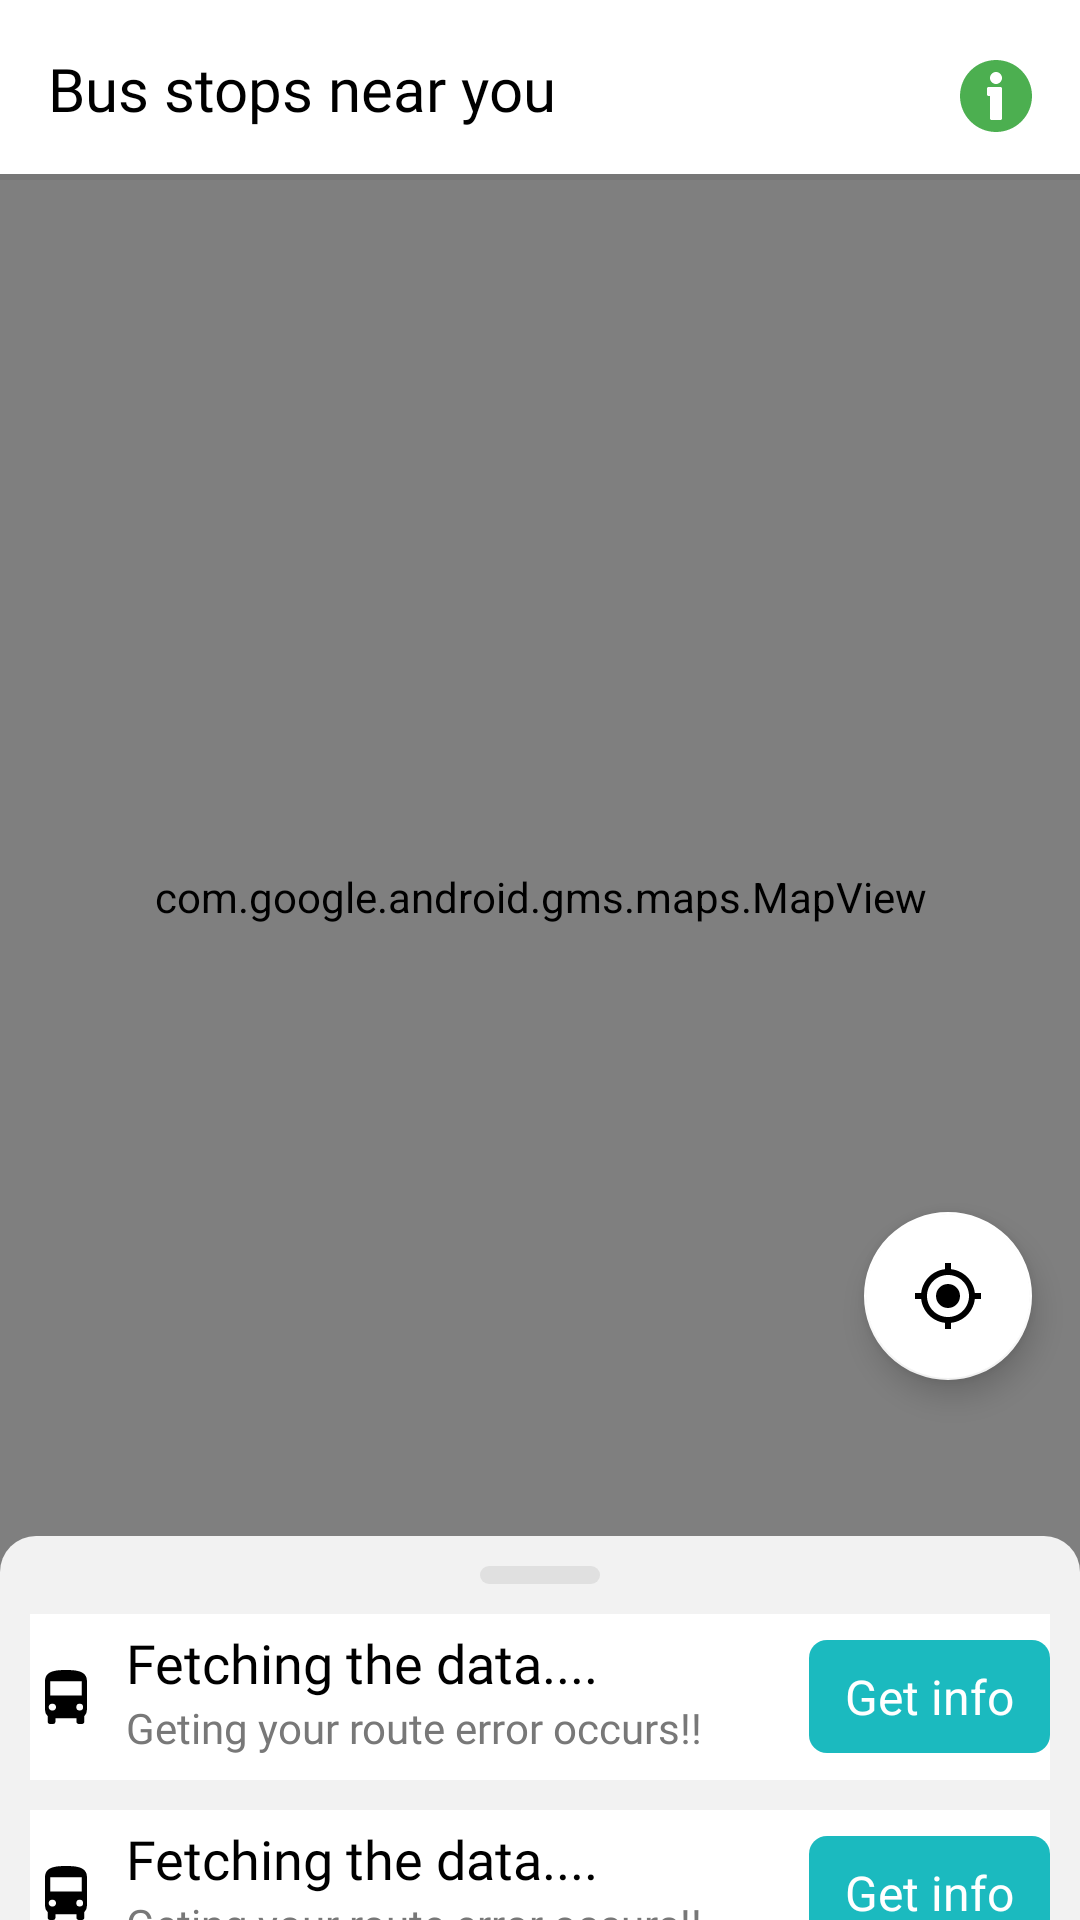

Screen size 1080x1920. Icon name, then its center in pixels as point (x, y):
current location: point (948, 1296)
info: point (996, 96)
